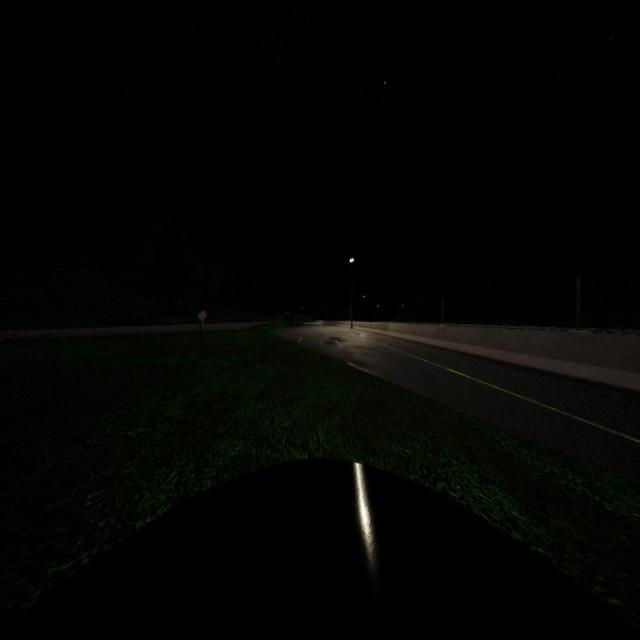Traffic_Signs: (197, 310, 207, 321)
Vehicle: (0, 459, 640, 638)
